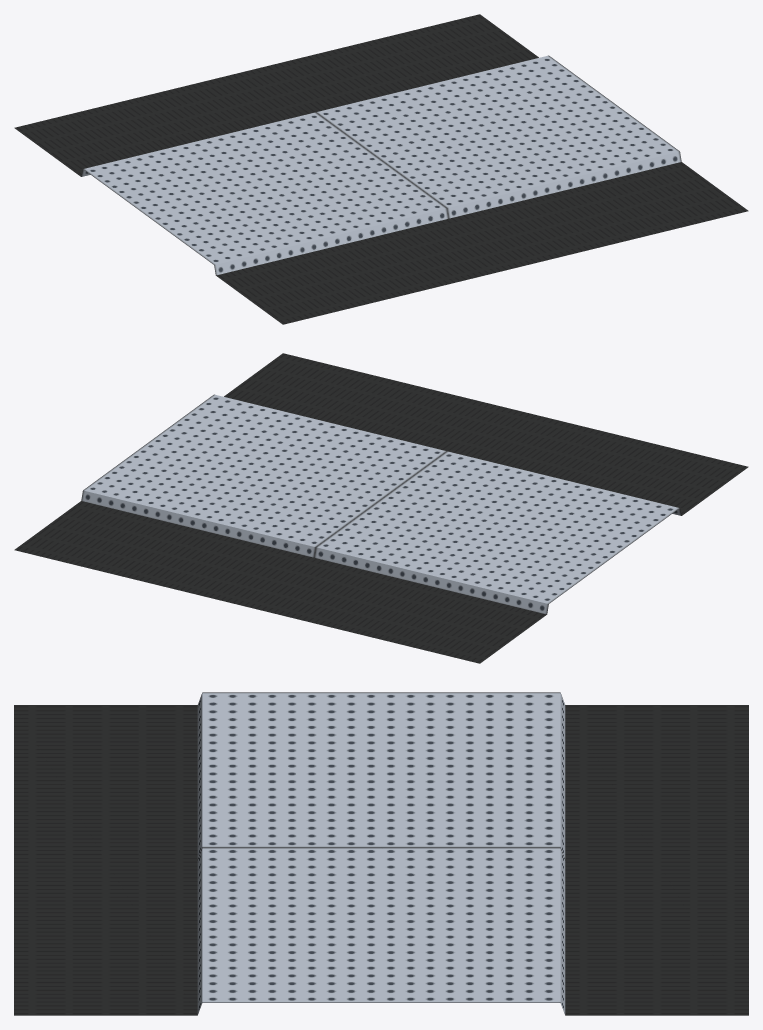
The model's file is Floor_Corridor.fbx.
3 renders of one model, top to bottom at view 1: azimuth 30°, elevation 25°; view 2: azimuth 150°, elevation 25°; view 3: azimuth 270°, elevation 25°, orthographic. The views are drawn at different scales.
Parts seen in each view (by area): view 1: Floor_Corridor; view 2: Floor_Corridor; view 3: Floor_Corridor.
Part boxes in pixels (left/top/right/bottom): Floor_Corridor: left=14, top=14, right=748, bottom=324; Floor_Corridor: left=14, top=353, right=748, bottom=663; Floor_Corridor: left=14, top=692, right=748, bottom=1015.
Bounding box in the file's own units: 400 × 7.56 × 400.
